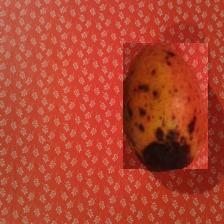Mango Semirotten: (123, 43, 208, 169)
